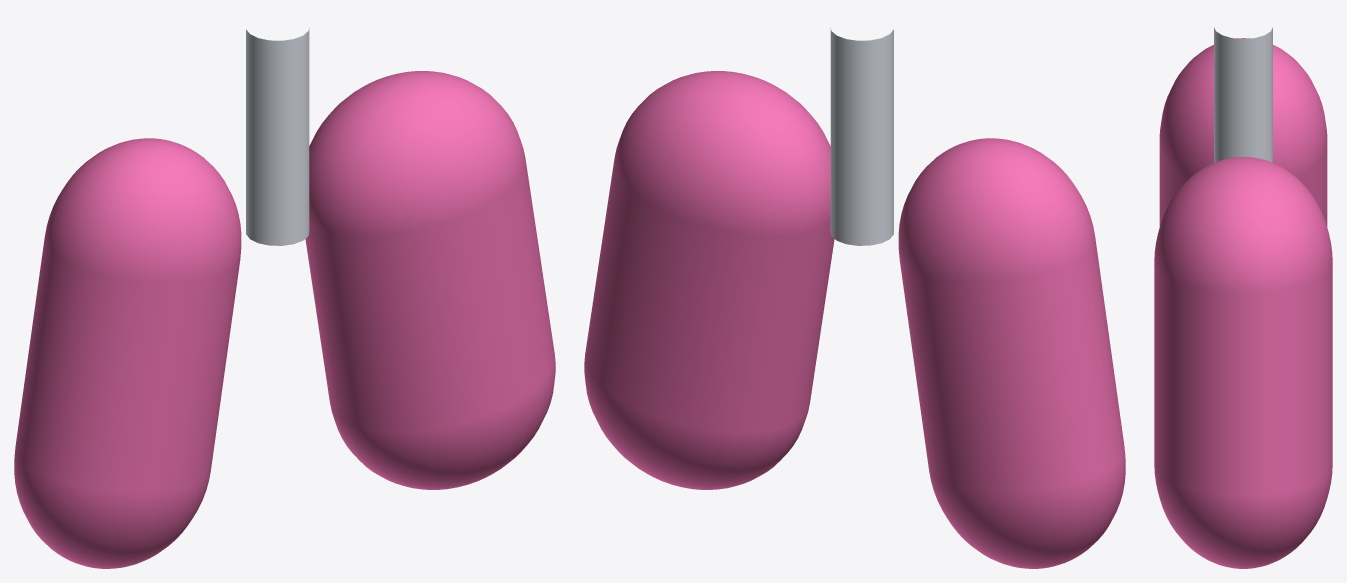
File: lungs_airways.glb
3 renders of one model, left to right at view 1: azimuth 30°, elevation 25°; view 2: azimuth 150°, elevation 25°; view 3: azimuth 270°, elevation 25°, orthographic. The views are drawn at different scales.
Visible parts, largest first — view 1: RightLung, LeftLung, Trachea; view 2: RightLung, LeftLung, Trachea; view 3: RightLung, LeftLung, Trachea.
Part boxes in pixels (<box>): RightLung: <box>305,71,555,489</box>; LeftLung: <box>14,138,241,568</box>; Trachea: <box>246,28,309,245</box>; RightLung: <box>584,71,834,489</box>; LeftLung: <box>898,138,1125,568</box>; Trachea: <box>830,28,893,245</box>; RightLung: <box>1154,157,1332,568</box>; LeftLung: <box>1159,38,1327,226</box>; Trachea: <box>1214,27,1272,162</box>.
Bounding box in the file's own units: 4.51 × 4.09 × 1.45.
